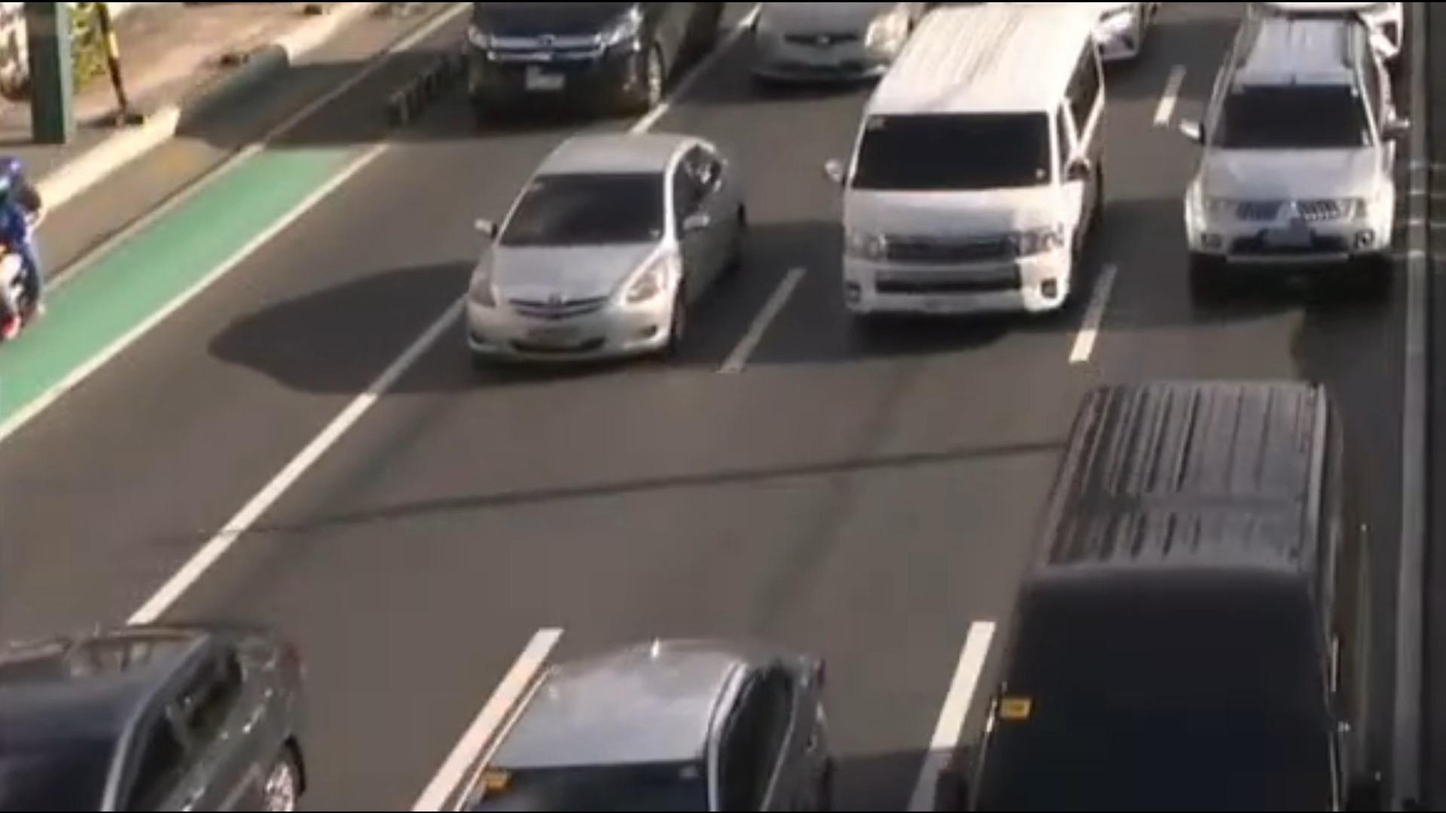Motorcycle: (0, 143, 58, 346)
SUV: (1173, 0, 1446, 301)
Sedan: (426, 119, 767, 390), (411, 623, 857, 813), (0, 601, 345, 813)
Van: (964, 337, 1388, 813), (823, 0, 1122, 324), (441, 0, 725, 126)
